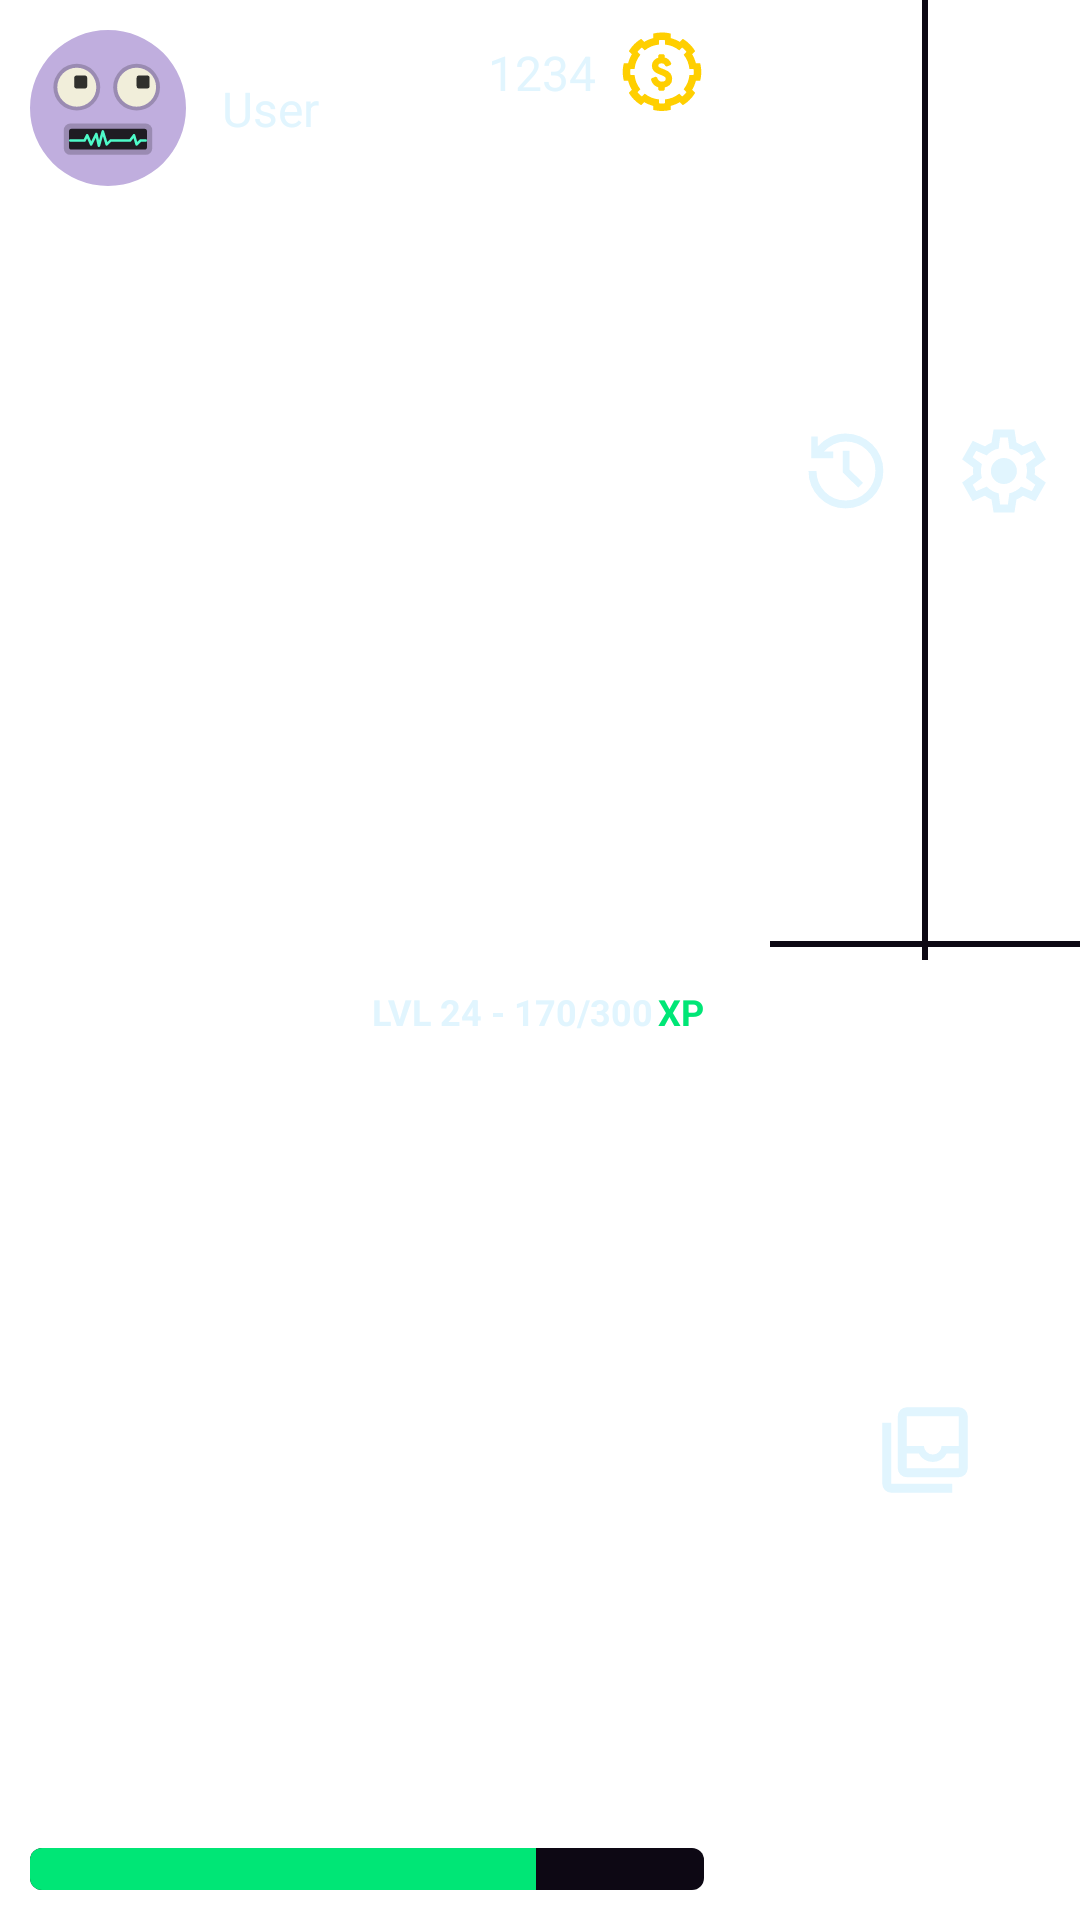

Locate icon controls on the screen. Image size 1080px×1920px, boxes as (x1, y1, x2, y2).
bot: (30, 30, 186, 186)
coin: (622, 32, 702, 111)
history: (809, 434, 883, 508)
